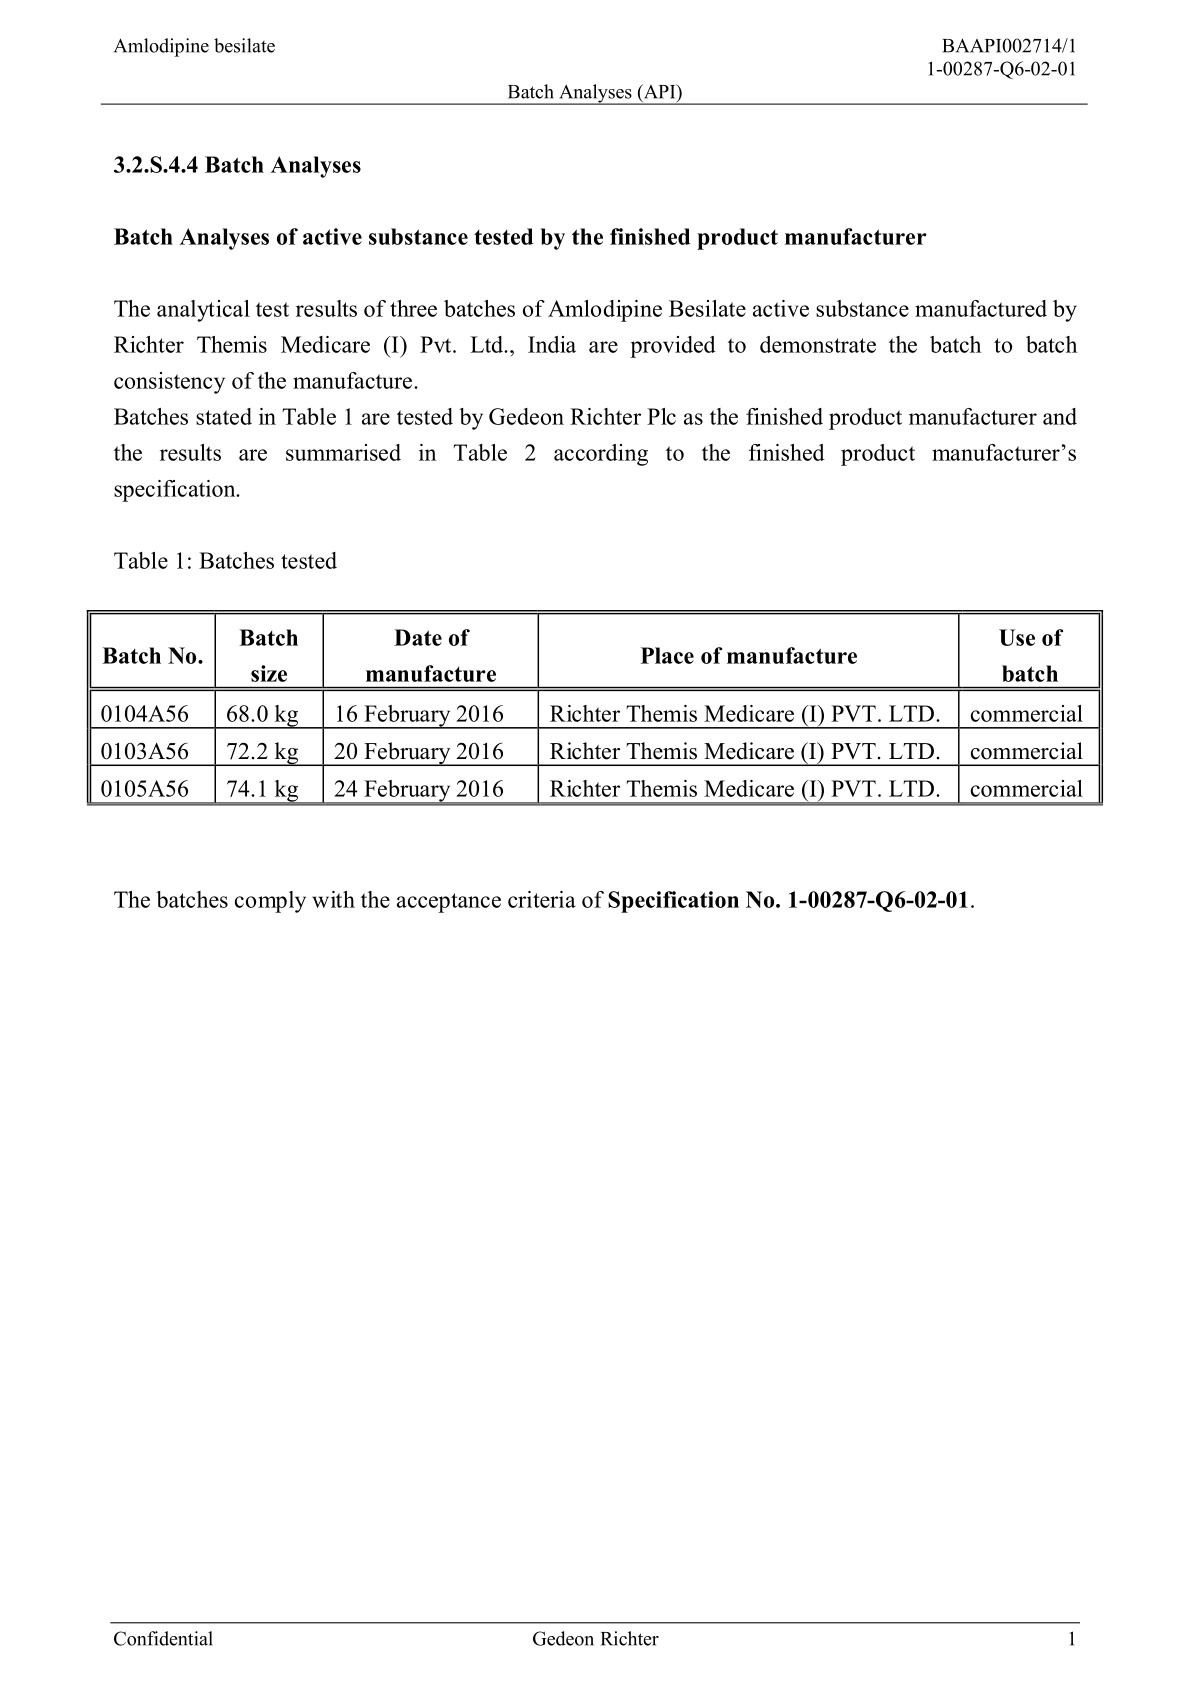full_lined: (86, 609, 1103, 807)
